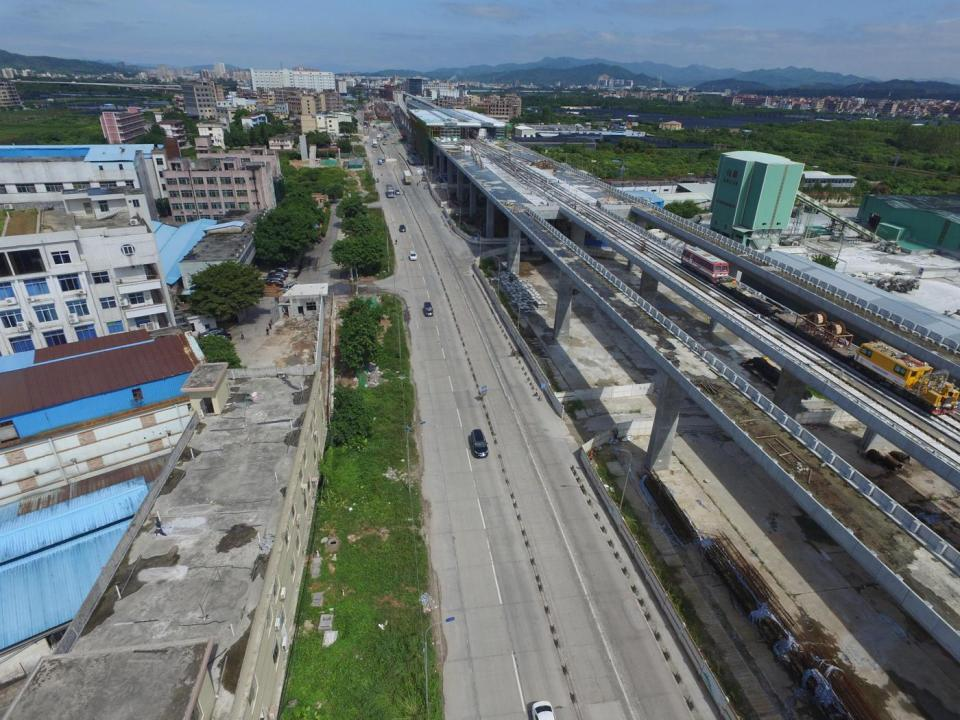car: (470, 429, 488, 458), (198, 326, 226, 339), (209, 332, 231, 344), (264, 280, 284, 289), (268, 268, 288, 276), (267, 272, 286, 280), (423, 301, 433, 316), (264, 278, 283, 284), (398, 224, 406, 232), (409, 252, 416, 260), (395, 189, 400, 194), (424, 185, 428, 190), (422, 176, 425, 181), (372, 150, 374, 153), (382, 159, 384, 162), (365, 142, 367, 144)
truck: (386, 184, 394, 198), (403, 171, 410, 184), (376, 134, 382, 142), (372, 138, 376, 146), (378, 158, 382, 165)
van: (281, 281, 297, 293)
